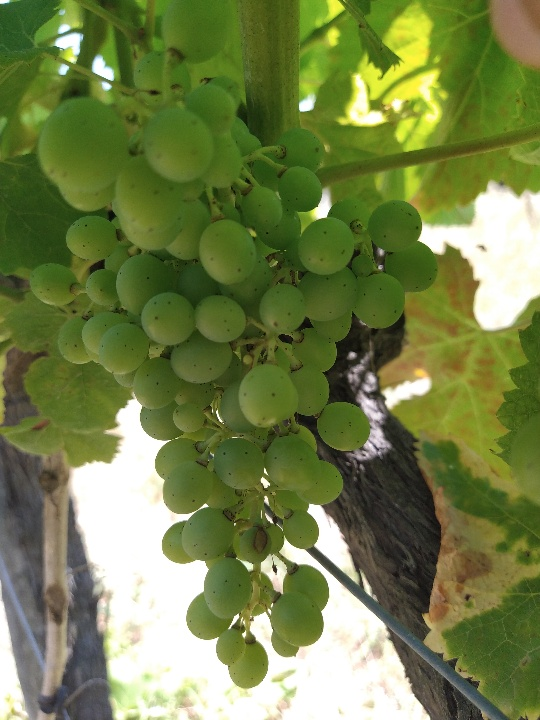grape: (30, 2, 441, 690)
